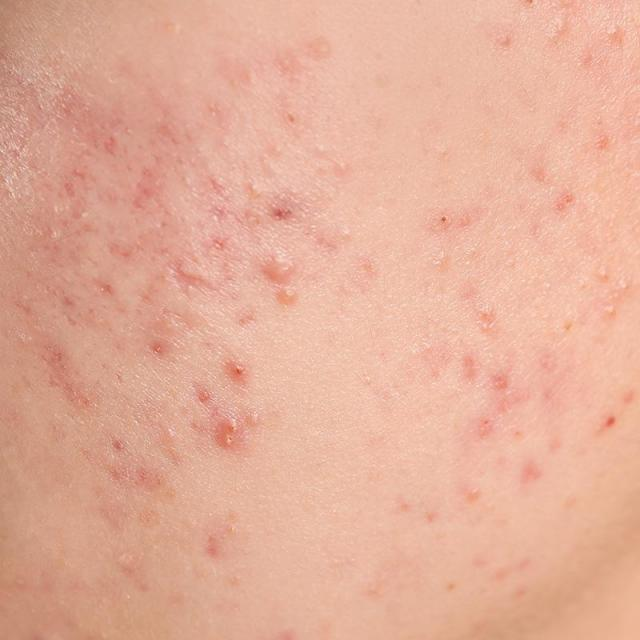9: (254, 279, 307, 319)
blackheads: (159, 258, 224, 305), (206, 410, 248, 470)
dark spot: (586, 251, 633, 340), (598, 15, 634, 49)
